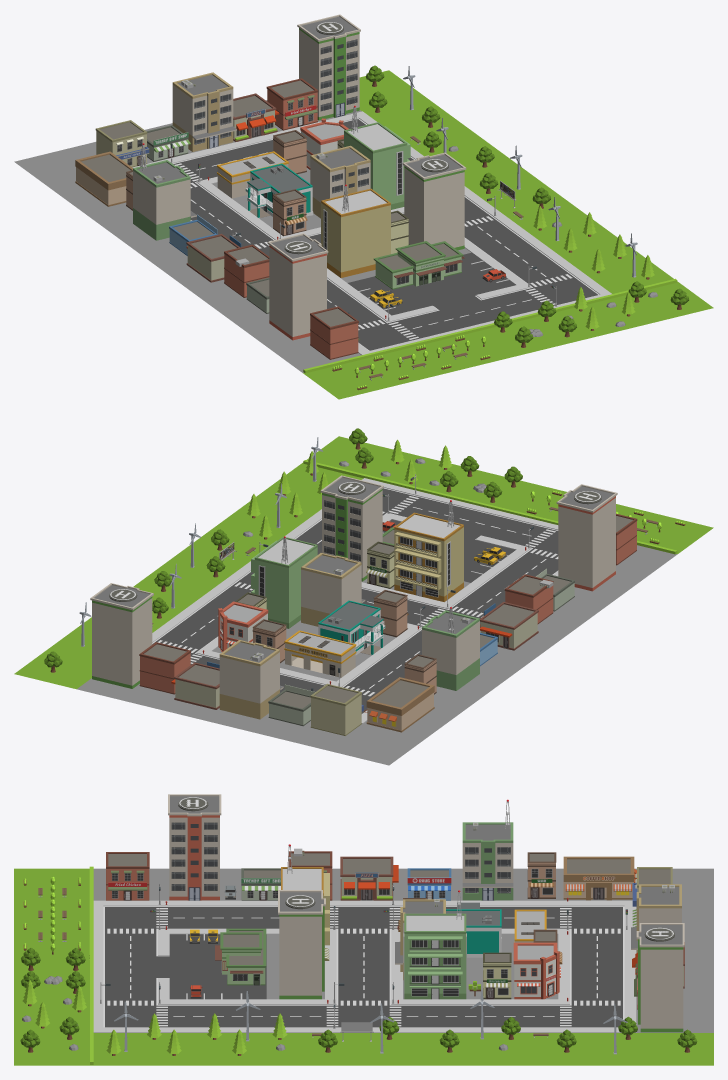
File: Map_1.fbx
The picture shows the model from 3 angles, top to bottom: view 1: azimuth 30°, elevation 25°; view 2: azimuth 150°, elevation 25°; view 3: azimuth 270°, elevation 25°; orthographic projection. The views are drawn at different scales.
Visible parts, largest first — view 1: Natures_Grass_Tile__9_, Natures_Grass_Tile__1_, Road_Concrete_Tile__6_, Building_Residential_color03, Building_Sky_big_color01__1_, Building_Sky_big_color02, Building_Sky_big_color01, Building_Sky_small_color02__1_, Building_Sky_small_color03, Road_Tile__3_, Building_Residential_color01, Building_Super_Market (+33 smaller); view 2: Natures_Grass_Tile__9_, Natures_Grass_Tile__1_, Road_Concrete_Tile__6_, Road_Concrete_Tile__5_, Building_Residential_color03, Building_Sky_big_color02, Building_Sky_big_color01__1_, Building_Sky_big_color01, Building_Sky_small_color02__1_, Building_Residential_color01, Building_Sky_small_color03, Building_Sky_small_color02 (+33 smaller); view 3: Natures_Grass_Tile__9_, Natures_Grass_Tile__1_, Building_Residential_color01, Road_Concrete_Tile__5_, Building_Sky_big_color02, Building_Sky_big_color01__1_, Building_Sky_big_color01, Building_Sky_small_color03, Road_Tile__3_, Road_Concrete_Tile__6_, Building_Coffee_Shop__1_, Building_Super_Market (+37 smaller).
Boxes of the visible parts, left/top/right/bottom form: Natures_Grass_Tile__9_: left=359, top=70, right=673, bottom=293; Natures_Grass_Tile__1_: left=303, top=281, right=713, bottom=399; Road_Concrete_Tile__6_: left=50, top=182, right=361, bottom=372; Building_Residential_color03: left=321, top=188, right=390, bottom=277; Building_Sky_big_color01__1_: left=297, top=14, right=360, bottom=120; Building_Sky_big_color02: left=267, top=233, right=328, bottom=340; Building_Sky_big_color01: left=402, top=152, right=466, bottom=250; Building_Sky_small_color02__1_: left=172, top=72, right=236, bottom=151; Building_Sky_small_color03: left=133, top=160, right=196, bottom=240; Road_Tile__3_: left=347, top=252, right=515, bottom=315; Building_Residential_color01: left=344, top=122, right=410, bottom=209; Building_Super_Market: left=373, top=241, right=464, bottom=289; Natures_Grass_Tile__9_: left=14, top=463, right=363, bottom=689; Natures_Grass_Tile__1_: left=307, top=436, right=713, bottom=553; Road_Concrete_Tile__6_: left=363, top=545, right=677, bottom=738; Road_Concrete_Tile__5_: left=77, top=678, right=424, bottom=765; Building_Residential_color03: left=394, top=512, right=463, bottom=601; Building_Sky_big_color02: left=556, top=484, right=617, bottom=591; Building_Sky_big_color01__1_: left=90, top=583, right=153, bottom=688; Building_Sky_big_color01: left=320, top=475, right=383, bottom=581; Building_Sky_small_color02__1_: left=219, top=640, right=283, bottom=719; Building_Residential_color01: left=251, top=536, right=317, bottom=628; Building_Sky_small_color03: left=422, top=610, right=479, bottom=690; Building_Sky_small_color02: left=301, top=553, right=365, bottom=626; Natures_Grass_Tile__9_: left=91, top=1033, right=713, bottom=1065; Natures_Grass_Tile__1_: left=14, top=868, right=91, bottom=1065; Building_Residential_color01: left=403, top=913, right=466, bottom=999; Road_Concrete_Tile__5_: left=636, top=868, right=713, bottom=1032; Building_Sky_big_color02: left=168, top=794, right=221, bottom=900; Building_Sky_big_color01__1_: left=636, top=923, right=684, bottom=1032; Building_Sky_big_color01: left=278, top=890, right=325, bottom=999; Building_Sky_small_color03: left=462, top=822, right=513, bottom=900; Road_Tile__3_: left=169, top=934, right=266, bottom=999; Road_Concrete_Tile__6_: left=93, top=868, right=636, bottom=900; Building_Coffee_Shop__1_: left=563, top=856, right=636, bottom=900; Building_Super_Market: left=215, top=928, right=266, bottom=985.
Bounding box in the file's own units: 12000 × 2711 × 18000.
27 materials, 27 textured.
